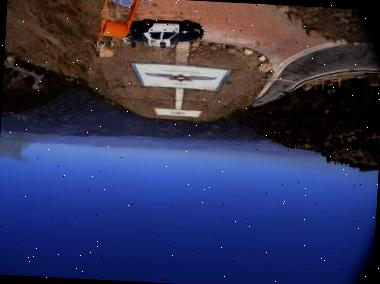smoke: (0, 113, 45, 167)
